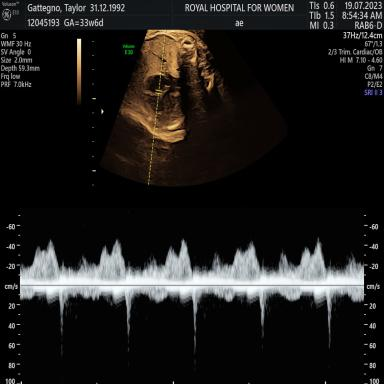Ultrasound-Waves: (26, 211, 361, 384)
